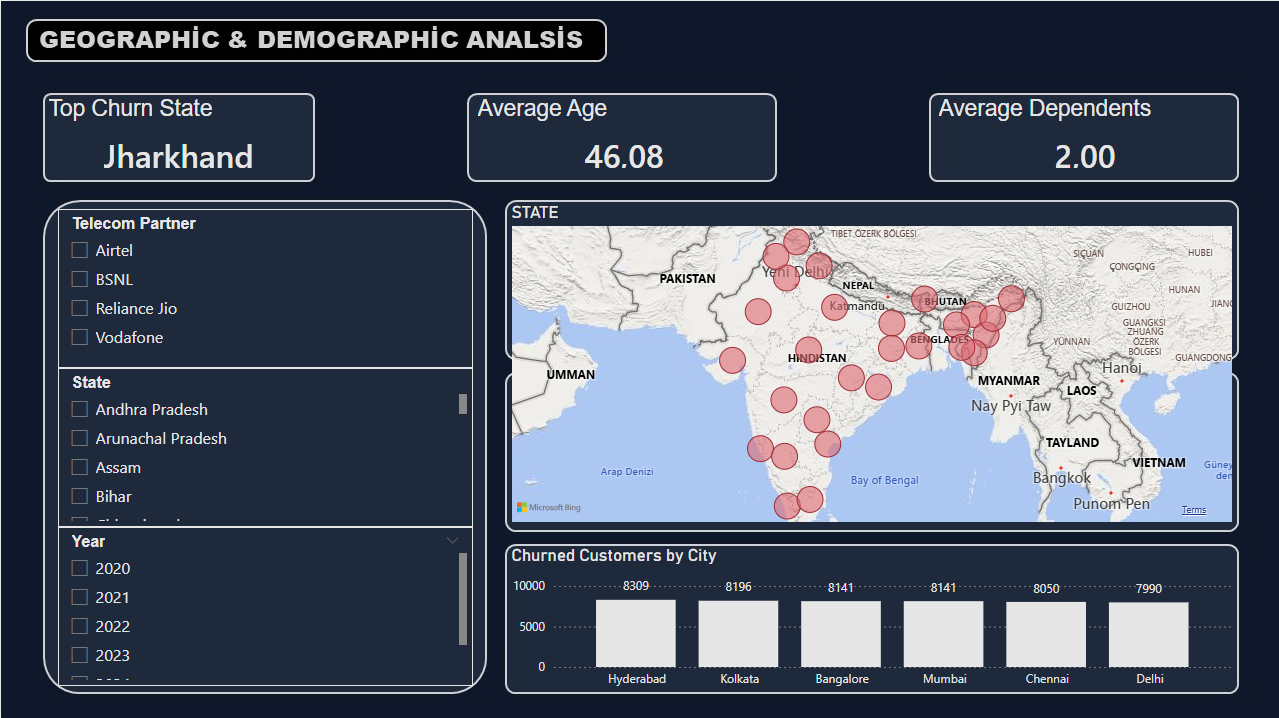

The page's visual inventory and layout, read from the dashboard file:
{"tool":"powerbi","page":{"name":"Geographic Analsis","canvas":[1280,720],"ordinal":2},"visuals":[{"type":"group","id":"g1","title":"Group 1","box":[56.7,208.1,415.3,477.4],"z":0},{"type":"slicer","fields":{"Values":["dim_partner.TelecomPartner"]},"box":[56.7,208.1,414.9,159.1],"z":0,"group":"g1"},{"type":"cardVisual","title":"Top Churn State","fields":{"Data":["Measure.Top Churn State"]},"box":[43.2,93.7,269.3,90.1],"z":1},{"type":"cardVisual","title":"Average Age","fields":{"Data":["Avg(dim_customer.Age)"]},"box":[472,93.7,302.7,90.1],"z":2},{"type":"cardVisual","title":"Average Dependents","fields":{"Data":["Avg(dim_customer.NumDependents)"]},"box":[933.2,93.7,302.7,90.1],"z":3},{"type":"map","title":"STATE","fields":{"Category":["dim_location.State"]},"box":[506,201,730,325],"z":4},{"type":"columnChart","fields":{"Category":["dim_location.City"],"Y":["Measure.Churned Customers"]},"box":[506,544,730,152],"z":5},{"type":"slicer","fields":{"Values":["dim_location.State"]},"box":[56.7,367.2,414.9,159.1],"z":1000,"group":"g1"},{"type":"slicer","fields":{"Values":["dim_date.Year"]},"box":[56.7,526.4,414.9,159.1],"z":2000,"group":"g1"}]}

Visuals, with their boxes in screenshot pixels (x1, y1, x2, y2), scaled from the page's 1280x720 canvas onto the 1279x718 screenshot:
"Group 1" group: (57,208,472,684)
slicer - dim_partner.TelecomPartner: (57,208,471,366)
"Top Churn State" cardVisual: (43,93,312,183)
"Average Age" cardVisual: (472,93,774,183)
"Average Dependents" cardVisual: (932,93,1235,183)
"STATE" map: (506,200,1235,525)
columnChart - dim_location.City x Measure.Churned Customers: (506,542,1235,694)
slicer - dim_location.State: (57,366,471,525)
slicer - dim_date.Year: (57,525,471,684)
